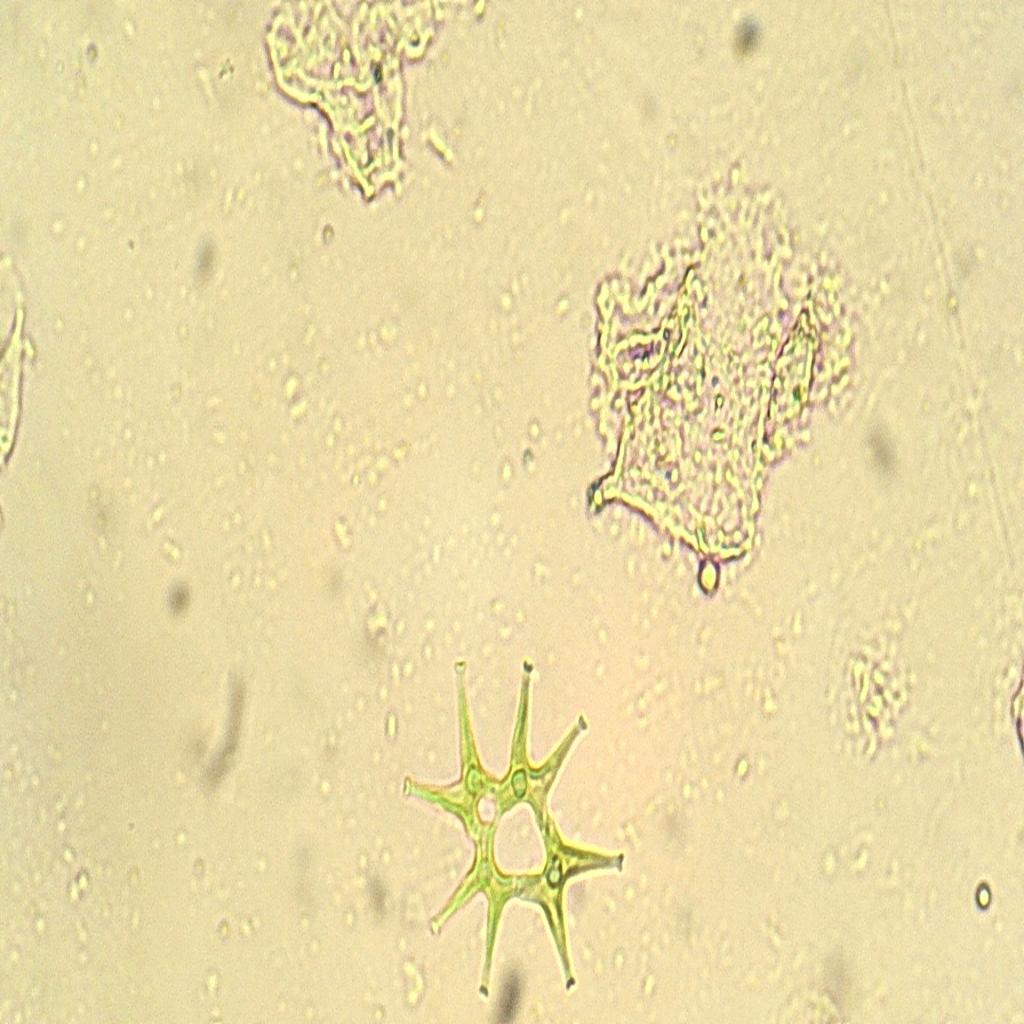Pediastrum_75FO: (387, 646, 626, 1005)
